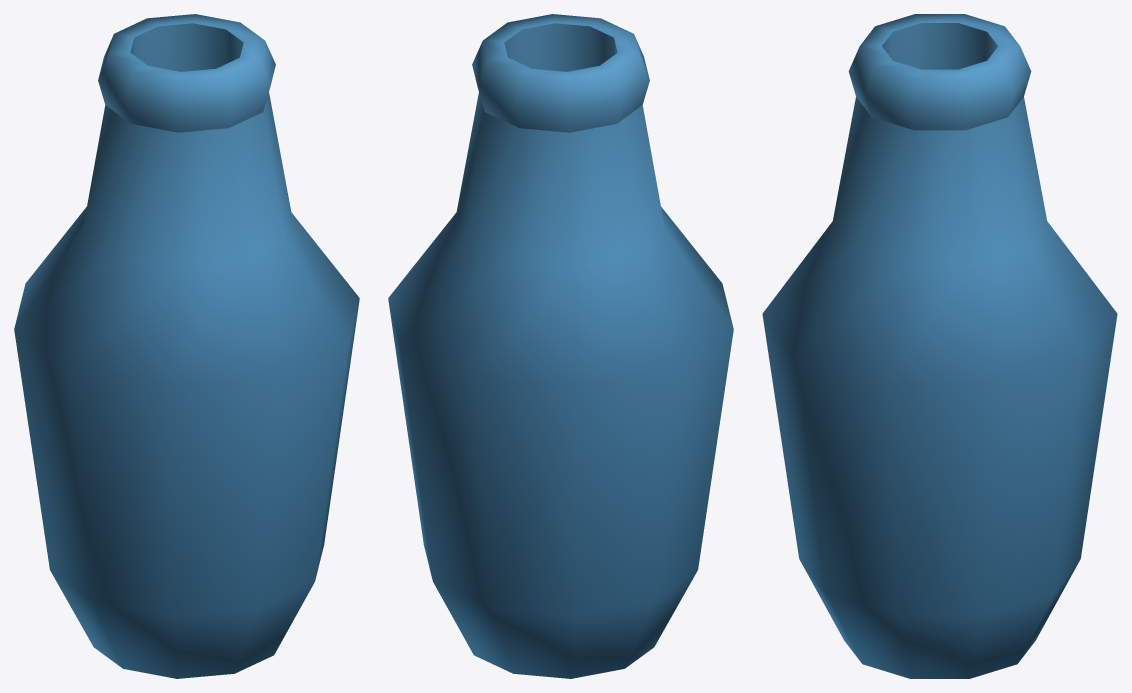
Rendered from Bottle_H.fbx.
3 views of the same model, side by side, from view 1: azimuth 30°, elevation 25°; view 2: azimuth 150°, elevation 25°; view 3: azimuth 270°, elevation 25° (orthographic).
Visible parts, largest first — view 1: Bottle_H; view 2: Bottle_H; view 3: Bottle_H.
Part boxes in pixels (box(x1,y1,x2,y2)): Bottle_H: box(14, 14, 359, 678); Bottle_H: box(388, 14, 733, 678); Bottle_H: box(762, 14, 1117, 678).
Bounding box in the file's own units: 19.84 × 38.52 × 20.87.
